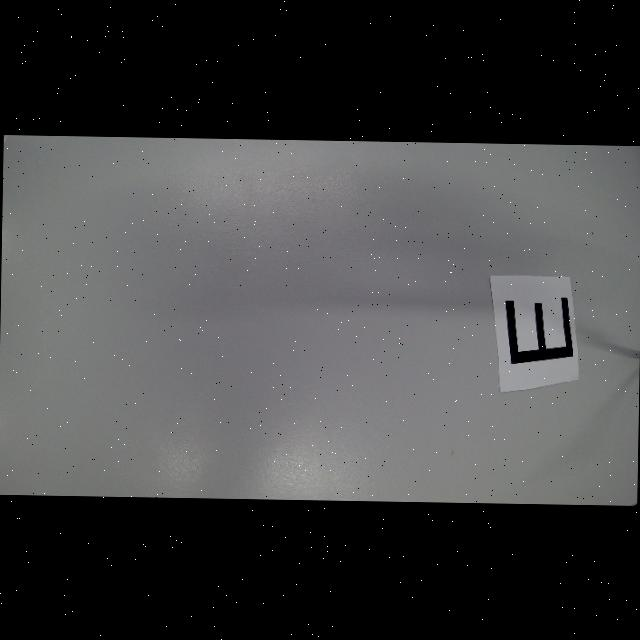FAKE: (504, 296, 576, 364)
